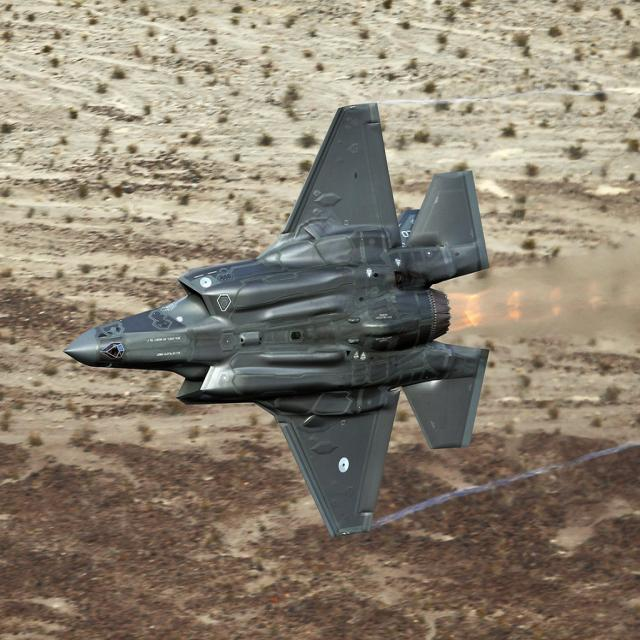MIL_Plane: (62, 102, 490, 538)
